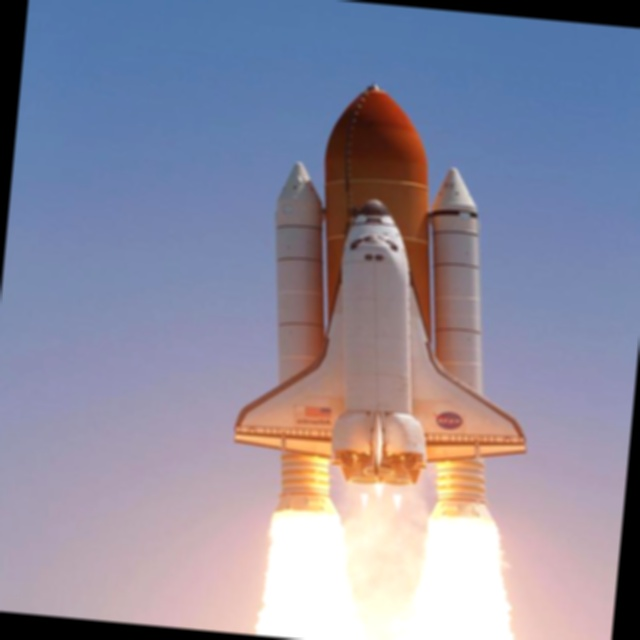medium_debris: (199, 463, 540, 640)
